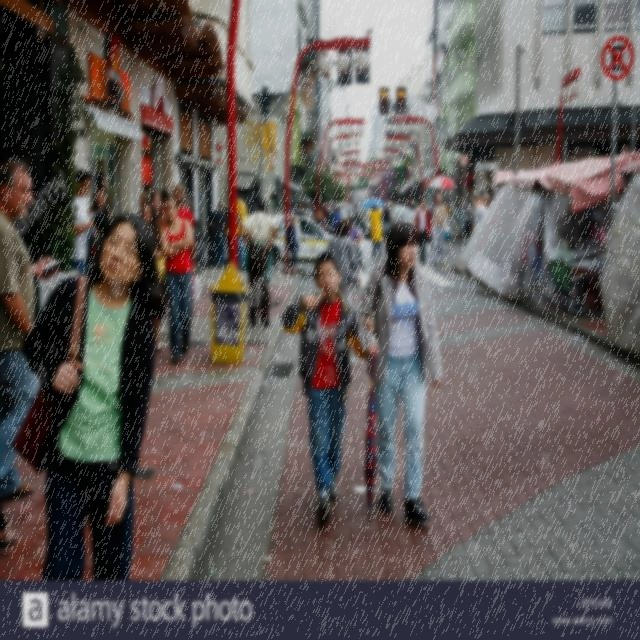pessoa: (11, 212, 162, 582), (354, 220, 444, 525), (280, 250, 376, 523), (0, 156, 60, 504), (157, 195, 195, 366), (160, 182, 197, 342), (240, 197, 279, 328), (139, 201, 167, 351), (70, 168, 96, 277), (326, 218, 360, 300), (138, 188, 193, 224), (454, 189, 486, 241), (429, 192, 447, 265), (414, 196, 432, 266), (210, 200, 228, 269), (85, 183, 113, 224), (284, 213, 300, 276), (288, 198, 332, 220), (0, 500, 16, 556), (368, 205, 383, 258), (148, 188, 166, 226), (473, 192, 491, 230), (380, 199, 394, 244), (346, 216, 364, 250), (222, 206, 230, 264), (238, 218, 246, 270), (347, 200, 362, 226), (430, 192, 436, 250), (410, 198, 422, 225), (332, 206, 341, 235), (353, 202, 362, 230), (306, 203, 316, 220), (317, 206, 324, 227), (408, 198, 419, 210), (300, 220, 308, 236), (387, 199, 395, 215)
